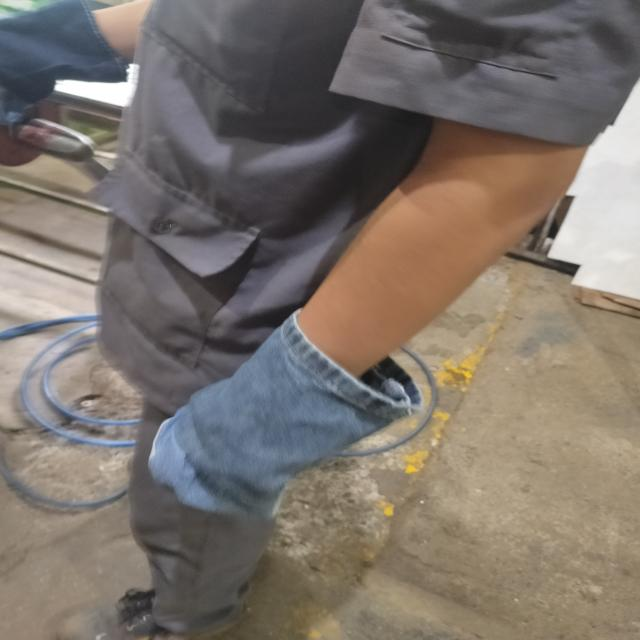Gloves-Detection: (140, 312, 407, 514), (1, 3, 120, 125)
